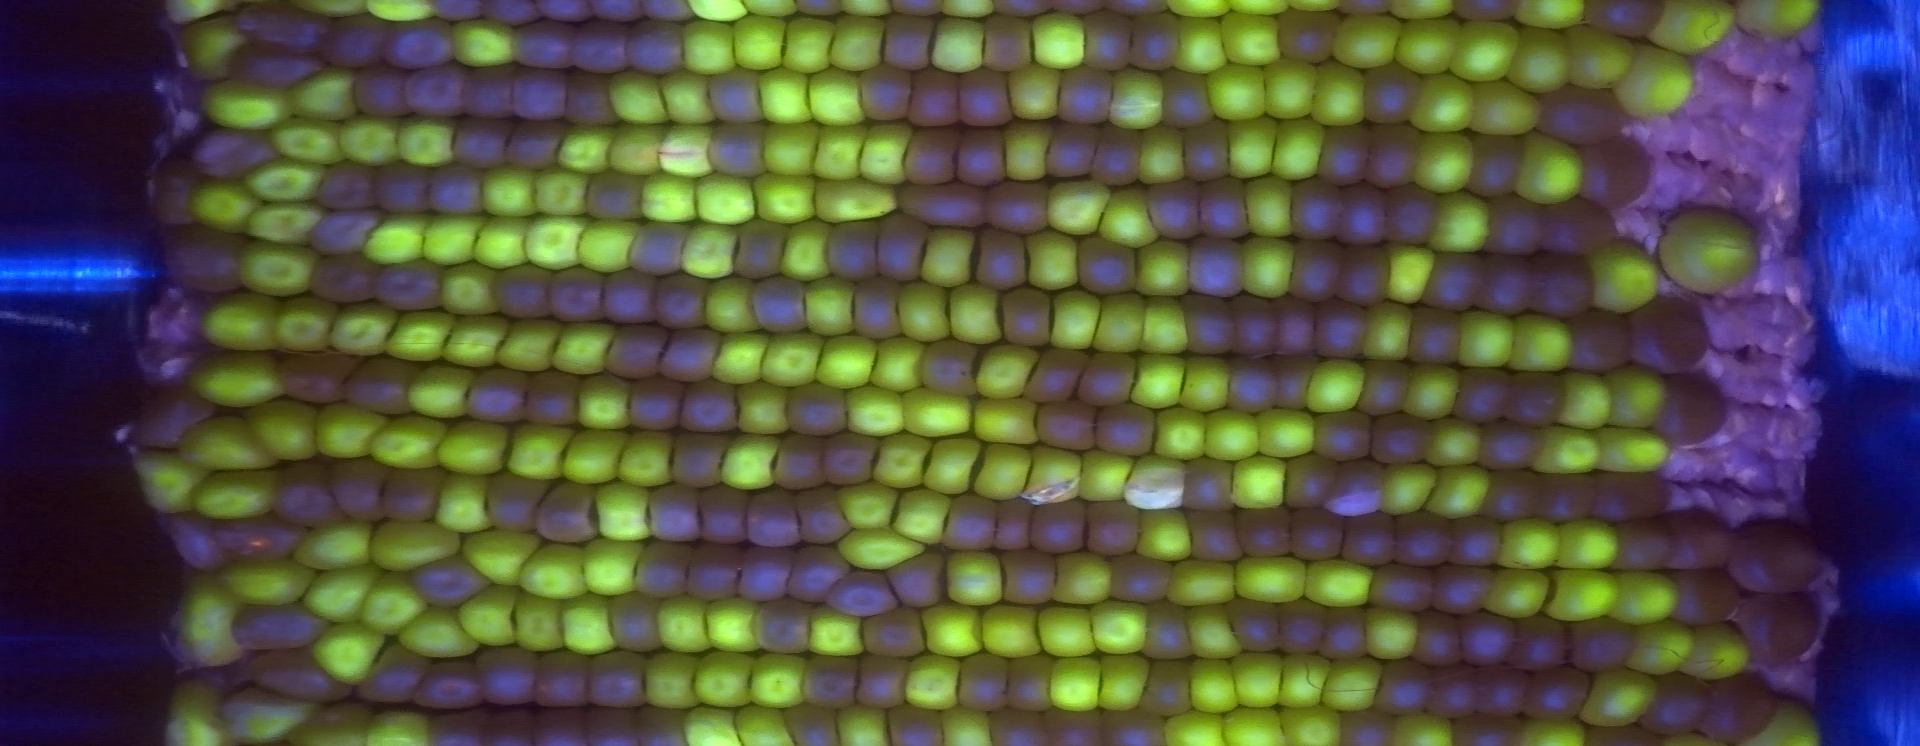fluorescent: (1654, 201, 1763, 296), (1611, 36, 1700, 121), (124, 439, 211, 521), (171, 570, 240, 668), (186, 349, 291, 412), (171, 414, 284, 472), (216, 552, 321, 608), (1584, 236, 1657, 316), (1513, 126, 1583, 208), (216, 688, 313, 746), (1576, 665, 1660, 730), (369, 516, 463, 573), (365, 413, 454, 472), (1506, 307, 1580, 379), (459, 527, 545, 587), (250, 397, 324, 465), (1562, 23, 1638, 91), (1445, 20, 1521, 87), (1389, 15, 1469, 77), (1409, 126, 1480, 197), (1600, 363, 1669, 435), (490, 312, 566, 377), (1044, 647, 1109, 723), (1588, 420, 1675, 477), (1330, 12, 1408, 75), (408, 356, 479, 425), (201, 292, 280, 352), (1626, 612, 1700, 677), (240, 240, 321, 299), (192, 465, 278, 521), (1468, 78, 1545, 140), (1248, 402, 1325, 462), (431, 420, 513, 477), (942, 541, 1011, 608), (1408, 72, 1478, 138), (978, 600, 1051, 664), (310, 403, 389, 461), (430, 469, 497, 537), (1682, 622, 1752, 687), (590, 477, 654, 548), (1507, 24, 1571, 96), (513, 544, 591, 601), (1299, 551, 1378, 609), (804, 62, 872, 129), (580, 533, 647, 600), (179, 18, 247, 83), (1236, 234, 1300, 303), (358, 572, 429, 635), (830, 528, 931, 572), (1545, 563, 1618, 625), (1654, 1, 1733, 58), (758, 325, 823, 392), (944, 281, 1007, 350), (809, 178, 902, 224), (1082, 599, 1156, 658), (1233, 550, 1311, 605), (1607, 568, 1681, 626), (1427, 187, 1490, 255), (399, 608, 482, 659), (1031, 599, 1100, 661), (1403, 353, 1464, 423), (200, 81, 290, 127), (293, 524, 381, 572), (917, 601, 983, 665), (1164, 552, 1239, 609), (503, 418, 573, 478), (1171, 13, 1229, 85), (290, 65, 361, 124), (1021, 440, 1080, 511), (841, 386, 913, 443), (691, 649, 756, 713), (1266, 118, 1330, 183), (331, 296, 397, 359), (889, 486, 951, 552), (1453, 309, 1521, 370), (1238, 171, 1299, 239), (1494, 513, 1565, 571), (382, 304, 456, 359), (604, 67, 671, 127), (1093, 650, 1152, 719), (1551, 516, 1626, 570), (522, 213, 591, 271), (562, 426, 633, 483), (1129, 235, 1191, 299), (615, 425, 678, 488), (1430, 457, 1493, 521), (471, 213, 538, 273), (811, 334, 877, 394), (872, 429, 938, 489), (1049, 548, 1116, 608), (1223, 116, 1283, 183), (1044, 176, 1112, 235), (971, 396, 1044, 450), (507, 587, 566, 654), (1220, 10, 1287, 69), (560, 593, 617, 661), (165, 684, 228, 746), (1258, 58, 1321, 119), (457, 586, 516, 652), (751, 169, 820, 224), (895, 390, 973, 439), (1095, 190, 1160, 249), (576, 216, 640, 274), (1025, 13, 1091, 71), (975, 436, 1032, 502), (1537, 421, 1603, 479), (901, 650, 969, 707), (444, 20, 518, 71), (269, 296, 338, 352), (778, 216, 831, 285), (834, 481, 904, 535), (1558, 367, 1619, 429), (680, 219, 740, 282), (891, 278, 951, 341), (801, 274, 860, 338), (1379, 240, 1438, 304), (1184, 650, 1242, 715), (242, 160, 329, 203), (1202, 67, 1269, 124), (1092, 292, 1149, 358), (654, 590, 710, 657), (302, 570, 378, 619), (274, 115, 347, 167), (1131, 505, 1191, 566), (924, 15, 987, 73), (290, 704, 378, 746), (922, 227, 980, 290), (1183, 605, 1247, 663), (1749, 697, 1823, 746), (1109, 66, 1166, 131), (1311, 60, 1368, 125), (1322, 655, 1382, 715), (573, 374, 634, 432), (644, 648, 703, 709), (1307, 354, 1368, 413), (1044, 288, 1101, 352), (866, 336, 931, 391), (392, 115, 459, 168), (758, 118, 818, 176), (1076, 447, 1138, 505), (1364, 600, 1422, 661), (1428, 415, 1489, 473), (550, 317, 613, 372), (722, 16, 787, 70), (441, 314, 507, 366), (975, 341, 1033, 399), (556, 119, 616, 176), (718, 327, 778, 385), (704, 594, 762, 654), (718, 430, 779, 486), (746, 650, 807, 707), (1736, 1, 1823, 40), (827, 11, 885, 69), (1229, 454, 1288, 512), (782, 13, 839, 73), (658, 70, 718, 126), (1025, 229, 1081, 289), (809, 605, 869, 661), (193, 179, 258, 230), (1485, 570, 1550, 621), (682, 15, 740, 72), (924, 435, 981, 494), (1278, 650, 1335, 709), (1131, 353, 1187, 413), (858, 122, 911, 185), (416, 216, 482, 265), (735, 379, 793, 434), (1229, 652, 1284, 710), (340, 113, 400, 167), (245, 202, 324, 243), (1364, 298, 1412, 365), (480, 164, 542, 216), (758, 69, 816, 124), (812, 124, 867, 181), (611, 122, 666, 180), (1180, 348, 1229, 412), (655, 122, 713, 176), (1011, 64, 1064, 122), (1002, 121, 1053, 181), (642, 171, 697, 227), (698, 170, 756, 223), (1153, 403, 1206, 461), (1379, 461, 1438, 511), (365, 212, 422, 262), (1138, 125, 1187, 184), (441, 265, 496, 316), (705, 278, 760, 330), (1201, 412, 1256, 463), (531, 169, 591, 216), (682, 699, 741, 746), (1160, 710, 1236, 746), (1139, 292, 1183, 352), (733, 703, 795, 746), (1216, 710, 1287, 746), (835, 703, 894, 746), (1513, 1, 1587, 36), (370, 706, 429, 746), (1276, 709, 1340, 746), (1392, 710, 1456, 746), (1521, 717, 1584, 746), (942, 707, 987, 746), (365, 1, 441, 24), (1391, 1, 1458, 26), (1166, 1, 1231, 21), (691, 1, 752, 20), (740, 1, 796, 21), (838, 1, 895, 20)
nonfluorescent: (1531, 81, 1637, 147), (1731, 524, 1828, 597), (1624, 300, 1713, 376), (1740, 590, 1827, 664), (158, 224, 247, 292), (1534, 191, 1620, 260), (889, 176, 993, 232), (240, 657, 359, 703), (233, 1, 334, 55), (1578, 142, 1656, 212), (1704, 665, 1777, 737), (228, 601, 329, 650), (470, 643, 540, 714), (1524, 251, 1598, 318), (1659, 375, 1727, 448), (135, 393, 222, 450), (339, 352, 418, 414), (1070, 233, 1144, 296), (204, 517, 310, 561), (1483, 191, 1551, 258), (358, 646, 431, 708), (187, 127, 280, 176), (1586, 465, 1662, 526), (1360, 554, 1436, 614), (1660, 510, 1738, 568), (1284, 173, 1347, 245), (1183, 236, 1251, 301), (1562, 306, 1631, 371), (936, 484, 1000, 552), (1053, 65, 1123, 129), (1456, 363, 1520, 432), (1389, 510, 1458, 573), (1313, 118, 1375, 189), (280, 341, 353, 402), (369, 258, 451, 312), (1182, 502, 1248, 568), (1277, 448, 1344, 513), (726, 216, 790, 284), (276, 465, 345, 528), (818, 565, 899, 619), (849, 62, 920, 124), (700, 120, 778, 176), (1378, 183, 1442, 249), (669, 424, 736, 488), (486, 258, 553, 322), (744, 273, 813, 336), (1022, 345, 1091, 408), (1641, 673, 1709, 735), (1464, 124, 1521, 200), (1335, 241, 1396, 311), (880, 549, 951, 609), (953, 65, 1018, 130), (1449, 508, 1513, 573), (743, 488, 807, 554), (998, 546, 1062, 612), (898, 125, 965, 187), (1193, 175, 1255, 243), (969, 224, 1030, 293), (1667, 566, 1739, 624), (1565, 620, 1638, 676), (993, 288, 1058, 352), (1222, 354, 1286, 419), (1284, 235, 1346, 303), (916, 339, 983, 401), (542, 266, 610, 327), (874, 11, 943, 71), (380, 465, 448, 526), (606, 589, 665, 659), (409, 557, 495, 605), (857, 606, 933, 660), (1142, 179, 1206, 243), (1473, 254, 1537, 317), (1406, 303, 1468, 367), (1307, 299, 1371, 361), (1073, 348, 1138, 410), (1027, 496, 1092, 559), (1227, 503, 1297, 561), (871, 209, 927, 281), (1311, 405, 1375, 468), (587, 648, 650, 710), (694, 481, 756, 546), (1276, 9, 1342, 69), (771, 430, 831, 496), (785, 541, 845, 608), (331, 458, 391, 524), (1029, 399, 1097, 457), (1584, 1, 1674, 45), (1367, 412, 1441, 464), (1092, 402, 1162, 458), (1453, 609, 1524, 664), (655, 323, 726, 379), (1375, 657, 1438, 719), (536, 480, 599, 543), (1284, 503, 1349, 563), (1082, 500, 1147, 560), (904, 66, 962, 132), (749, 600, 816, 659), (634, 537, 693, 603), (852, 272, 906, 343), (684, 540, 747, 601), (485, 472, 549, 532), (1338, 511, 1403, 570), (823, 218, 880, 284), (702, 69, 770, 124), (978, 183, 1056, 232), (873, 703, 961, 746), (316, 17, 389, 69), (240, 43, 331, 85), (1330, 450, 1384, 519), (1534, 465, 1596, 527), (1411, 608, 1472, 669), (977, 13, 1040, 73), (1180, 122, 1239, 186), (1419, 658, 1478, 722), (410, 663, 489, 710), (951, 122, 1009, 187), (1178, 292, 1236, 356), (1524, 666, 1591, 723), (680, 377, 746, 434), (465, 367, 533, 423), (451, 118, 520, 170), (400, 66, 470, 119), (531, 650, 593, 710), (1423, 251, 1482, 314), (627, 20, 691, 77), (563, 67, 620, 132), (1104, 551, 1176, 603), (1365, 122, 1420, 189), (1140, 654, 1196, 718), (1089, 122, 1142, 189), (784, 381, 850, 435), (381, 22, 457, 69), (1471, 661, 1531, 720), (511, 64, 571, 122), (512, 17, 580, 69), (1360, 66, 1422, 124), (596, 268, 658, 326), (605, 321, 667, 377), (1160, 64, 1215, 127), (1224, 293, 1280, 356), (1605, 516, 1671, 568), (456, 66, 522, 119), (1431, 570, 1502, 619), (654, 269, 711, 330), (426, 162, 486, 219), (820, 431, 882, 488), (1044, 119, 1100, 181), (1333, 184, 1389, 246), (645, 481, 700, 544), (310, 254, 380, 303), (789, 486, 853, 539), (1033, 706, 1118, 746), (986, 489, 1037, 555), (309, 209, 383, 255), (1507, 370, 1565, 429), (1276, 600, 1333, 659), (1224, 595, 1284, 652), (372, 164, 435, 218), (584, 169, 649, 220), (165, 510, 223, 567), (1484, 468, 1540, 527), (1515, 619, 1573, 675), (740, 548, 796, 606), (1314, 604, 1370, 663), (1141, 604, 1198, 661), (524, 370, 584, 424), (1081, 13, 1135, 72), (954, 657, 1013, 710), (1474, 420, 1544, 465), (1128, 10, 1180, 70), (1272, 296, 1324, 358), (632, 219, 693, 271), (572, 18, 631, 71), (631, 377, 691, 429), (778, 703, 849, 746), (853, 657, 909, 712), (800, 661, 862, 708), (1354, 359, 1406, 415), (504, 115, 560, 167), (1100, 709, 1176, 746), (160, 160, 200, 232), (1183, 458, 1236, 511), (318, 162, 373, 212), (1332, 704, 1398, 746), (1273, 353, 1315, 416), (1451, 713, 1529, 746), (533, 702, 591, 746), (1056, 522, 1106, 573), (584, 706, 648, 746), (353, 66, 408, 113), (634, 702, 691, 746), (432, 707, 493, 746), (975, 710, 1040, 746), (482, 706, 538, 746), (1577, 722, 1656, 746), (585, 1, 651, 29), (1011, 655, 1047, 707), (1460, 1, 1524, 27), (636, 1, 700, 27)
